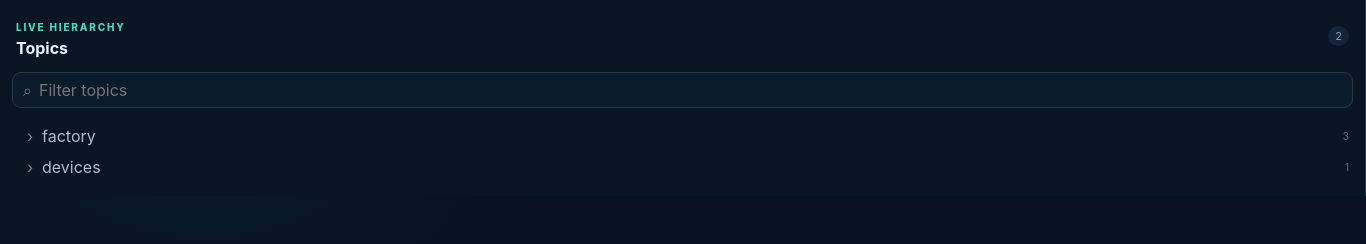
Test case: TopicExplorer › opens with only first-level topics visible and expands branches on demand
Expected: the button "factory" is shown, top-left (42, 126), bottom-right (1343, 146)
Expected: the button "devices" is shown, top-left (42, 156), bottom-right (1345, 176)
Click the button named "Toggle factory".
click(30, 136)  # box top-left (18, 126), bottom-right (42, 146)
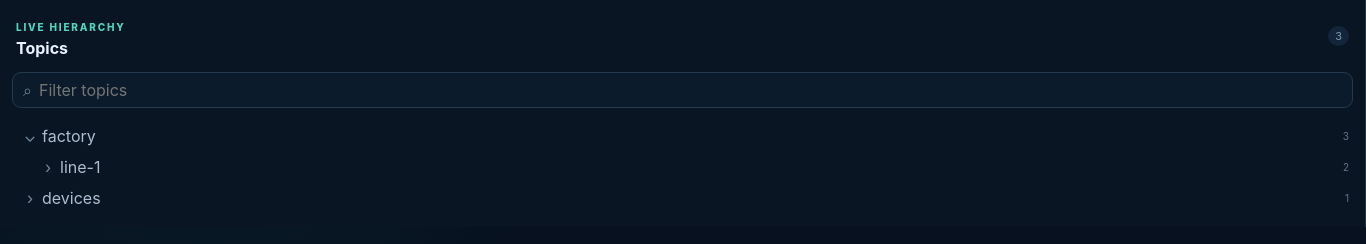
Expected: the button with aria-label "factory/line-1" is shown, top-left (60, 156), bottom-right (1343, 176)
